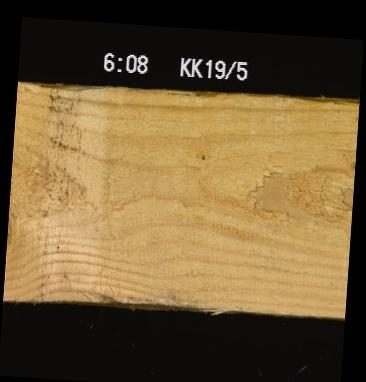small_knot: (344, 153, 353, 173), (197, 150, 207, 161)
wave: (87, 289, 223, 307), (16, 81, 110, 95), (187, 89, 221, 100)
